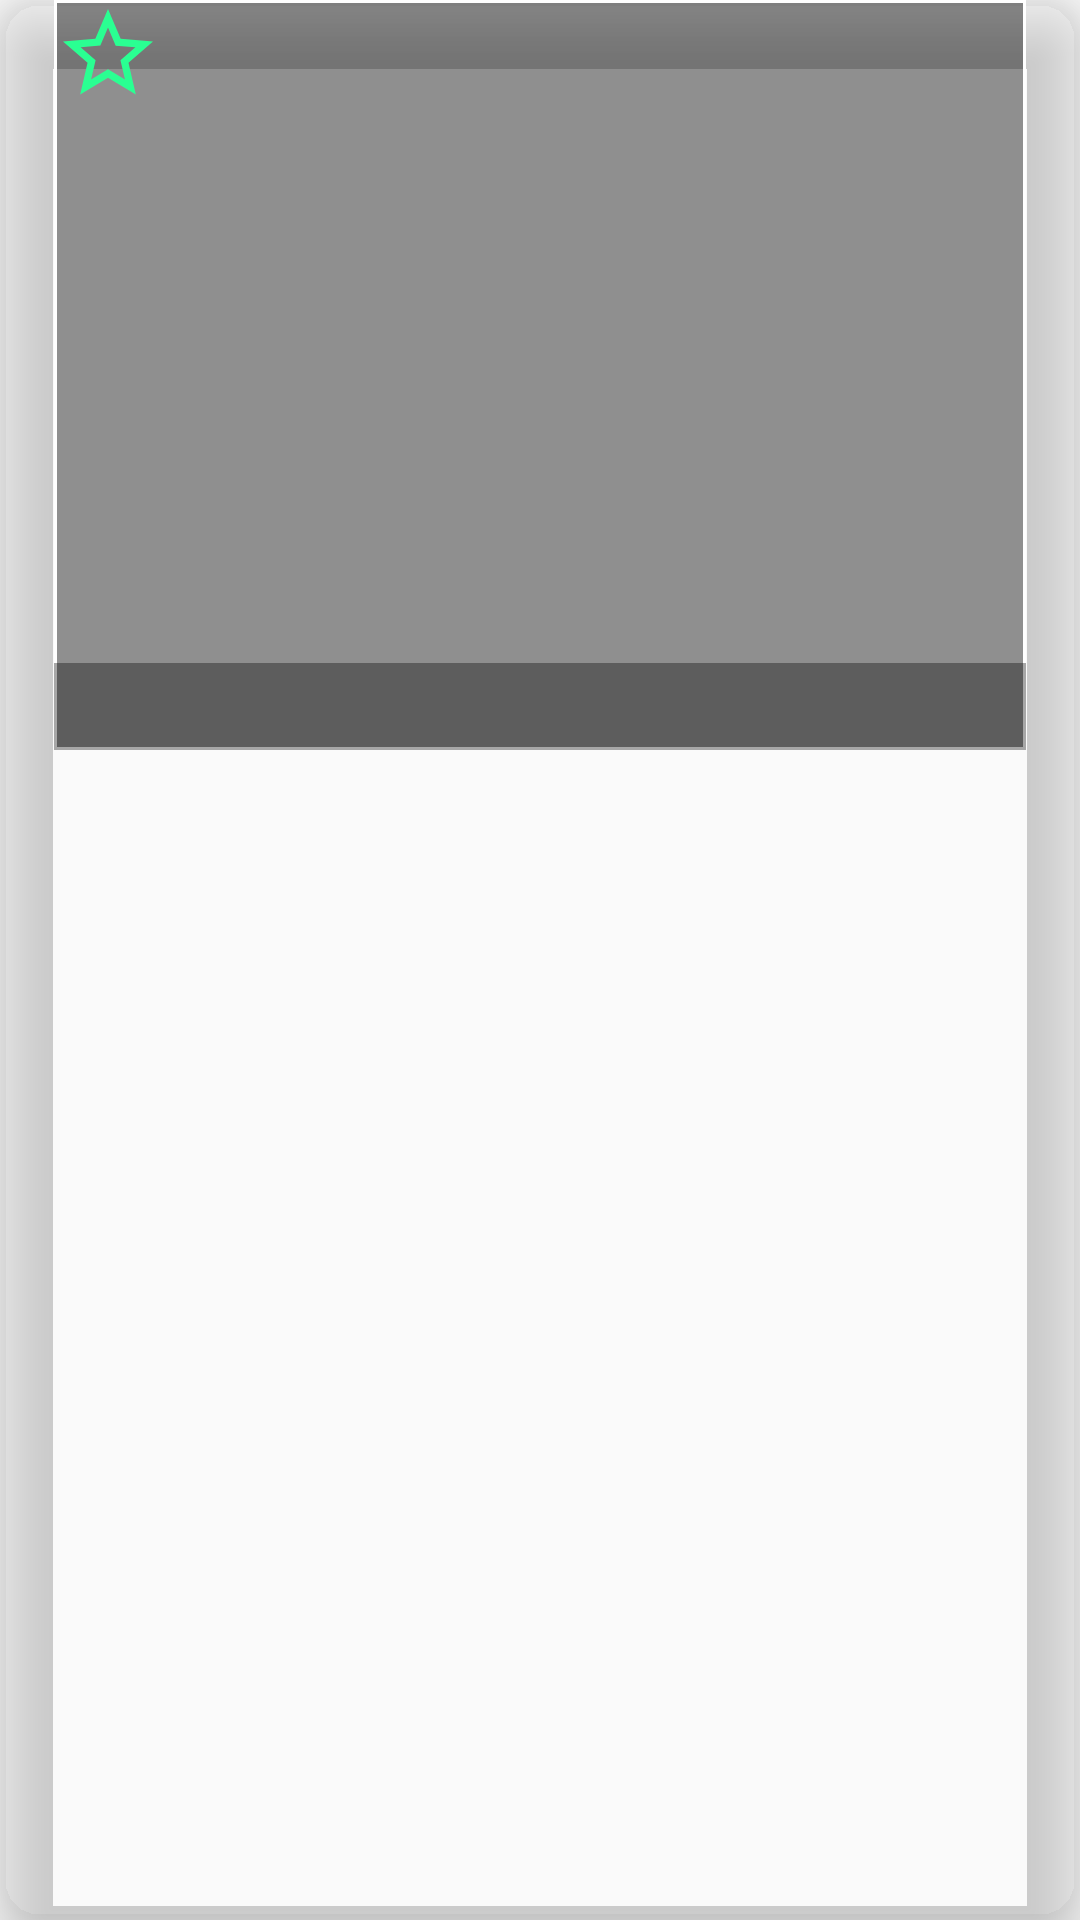

Where to tap for icons on this 1080 x 1920 app screen, as (x=x, y=y):
Favourites: (x=108, y=54)
